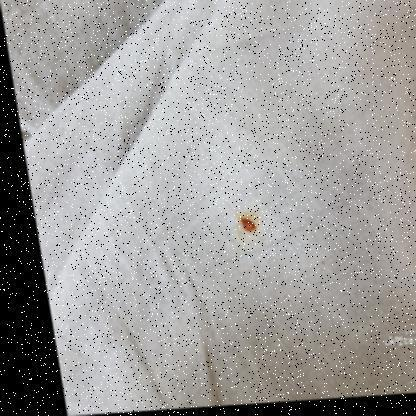kimchi: (238, 212, 261, 243)
